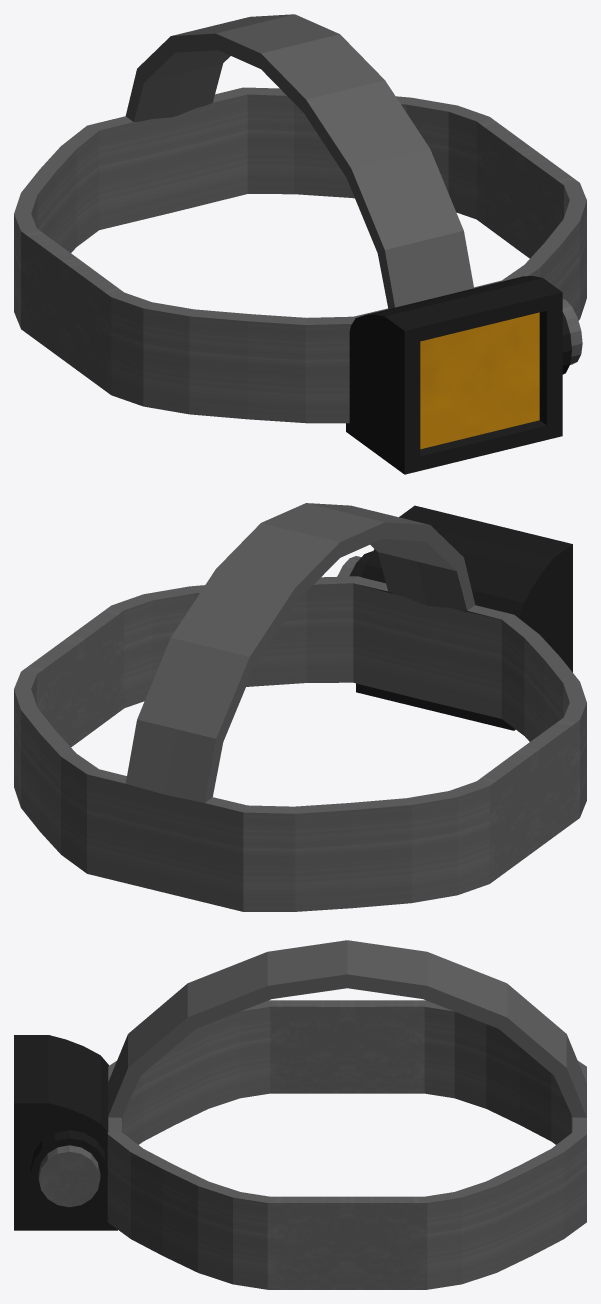
File: mod_item_headlamp.fbx
The picture shows the model from 3 angles, top to bottom: view 1: azimuth 30°, elevation 25°; view 2: azimuth 150°, elevation 25°; view 3: azimuth 270°, elevation 25°; orthographic projection. The views are drawn at different scales.
Parts seen in each view (by area): view 1: mesh_item_headlamp; view 2: mesh_item_headlamp; view 3: mesh_item_headlamp.
Part boxes in pixels (<box>): mesh_item_headlamp: <box>14,14,586,474</box>; mesh_item_headlamp: <box>14,503,586,911</box>; mesh_item_headlamp: <box>14,940,586,1289</box>.
Bounding box in the file's own units: 600 × 333 × 717.
